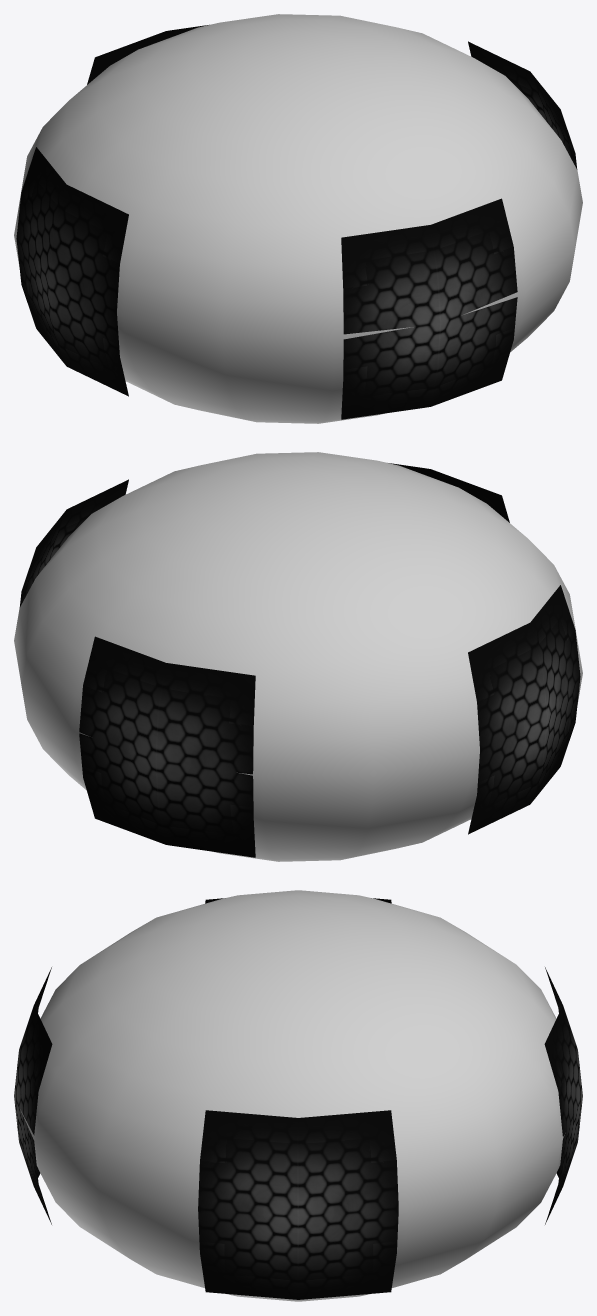
File: force_field_3.fbx
3 views of the same model, one above another, from view 1: azimuth 30°, elevation 25°; view 2: azimuth 150°, elevation 25°; view 3: azimuth 270°, elevation 25° (orthographic).
Parts seen in each view (by area): view 1: ForceField.004, ForceField.005; view 2: ForceField.004, ForceField.005; view 3: ForceField.004, ForceField.005.
Boxes of the visible parts, left/top/right/bottom form: ForceField.004: left=14, top=14, right=582, bottom=423; ForceField.005: left=16, top=24, right=577, bottom=419; ForceField.004: left=14, top=452, right=582, bottom=861; ForceField.005: left=19, top=463, right=580, bottom=857; ForceField.004: left=20, top=890, right=565, bottom=1301; ForceField.005: left=14, top=898, right=582, bottom=1299.
Bounding box in the file's own units: 1490 × 956 × 1475.
